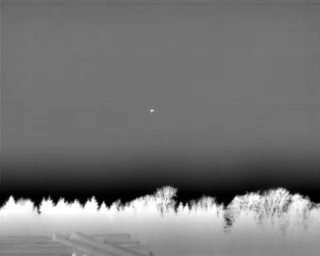BIRD: (148, 107, 156, 115)
